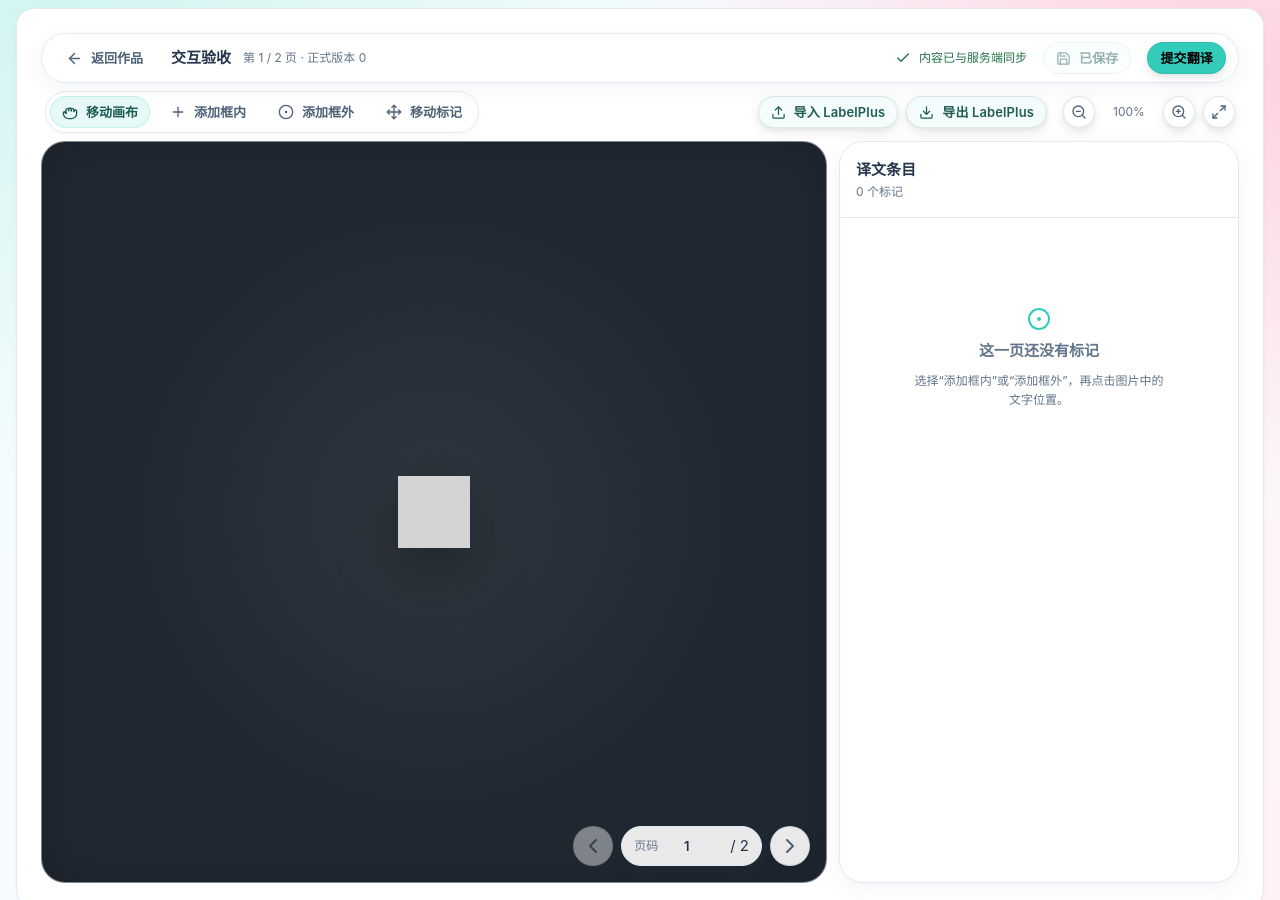
shortcut deletion serializes after in-flight creation and deletes its resolved server ID
Step 1. Click the button "添加框内" → click(208, 112), box [158,96,258,128]
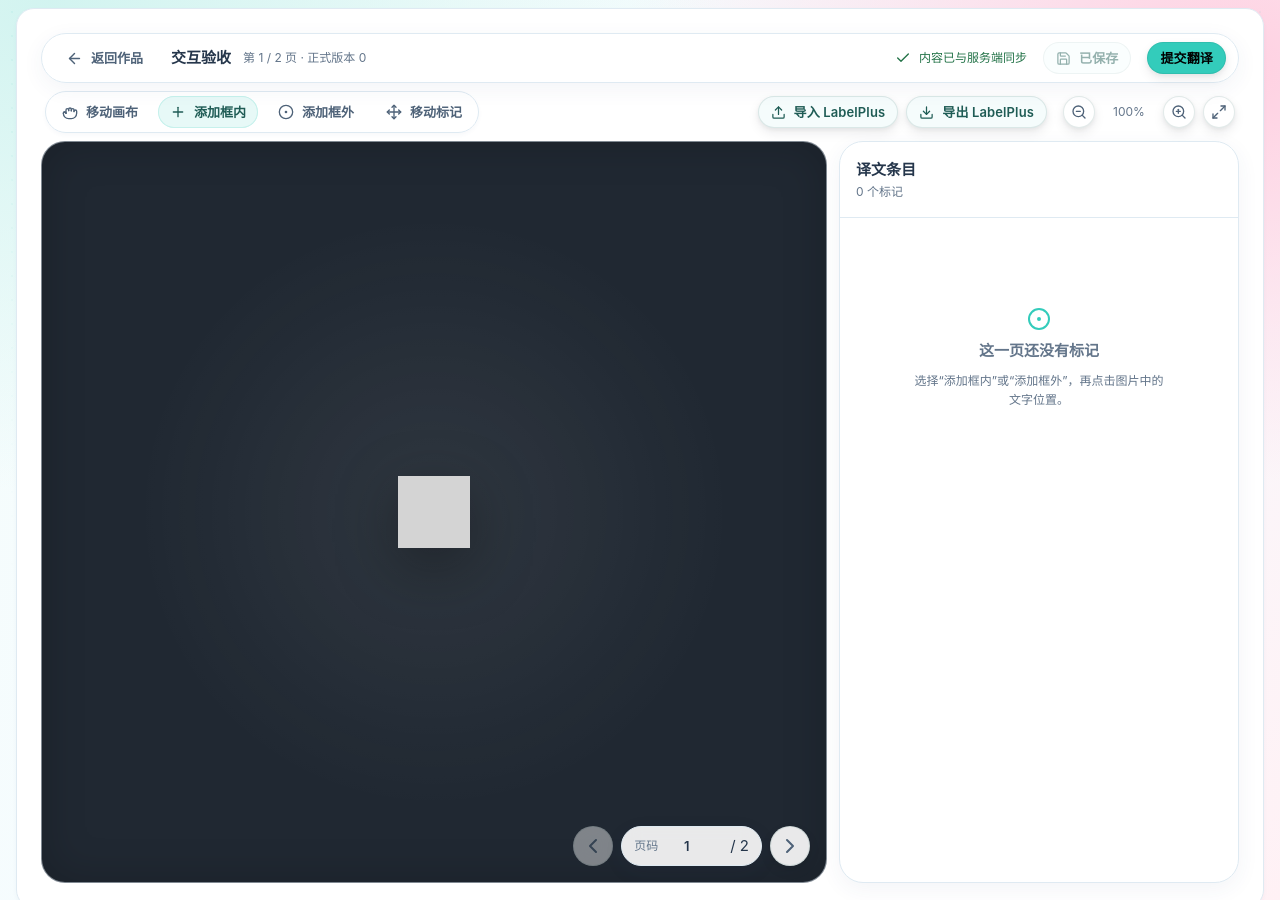
Step 2. Press the mouse on the element named "图片标记画布，Alt 加滚轮缩放，Ctrl 加 Z 撤销连续新标点" → (434, 512), box [41,141,827,883]
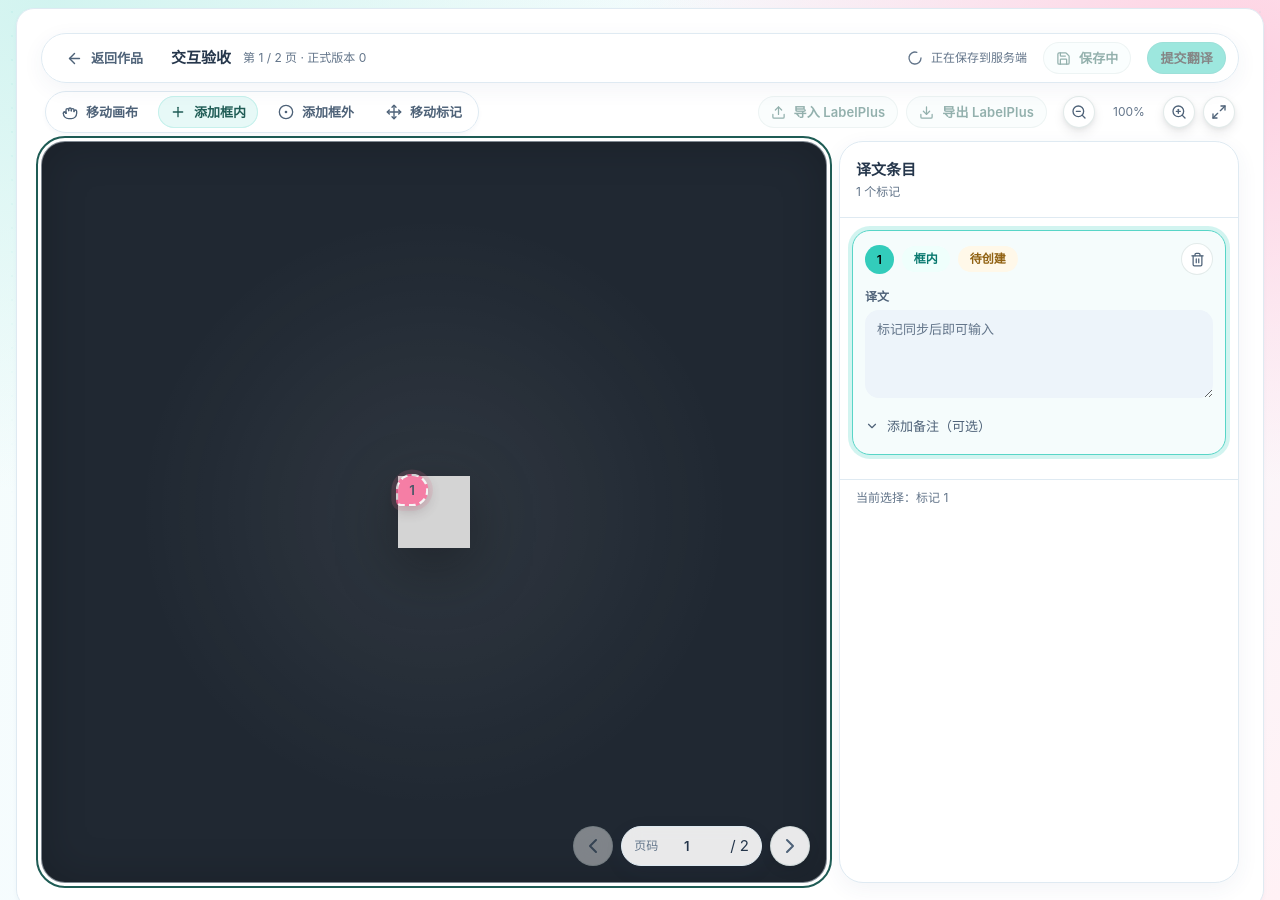
Expected: the text "待创建" is shown, [958,246,1018,272]
Step 3. Press z in the element named "图片标记画布，Alt 加滚轮缩放，Ctrl 加 Z 撤销连续新标点", box [41,141,827,883]
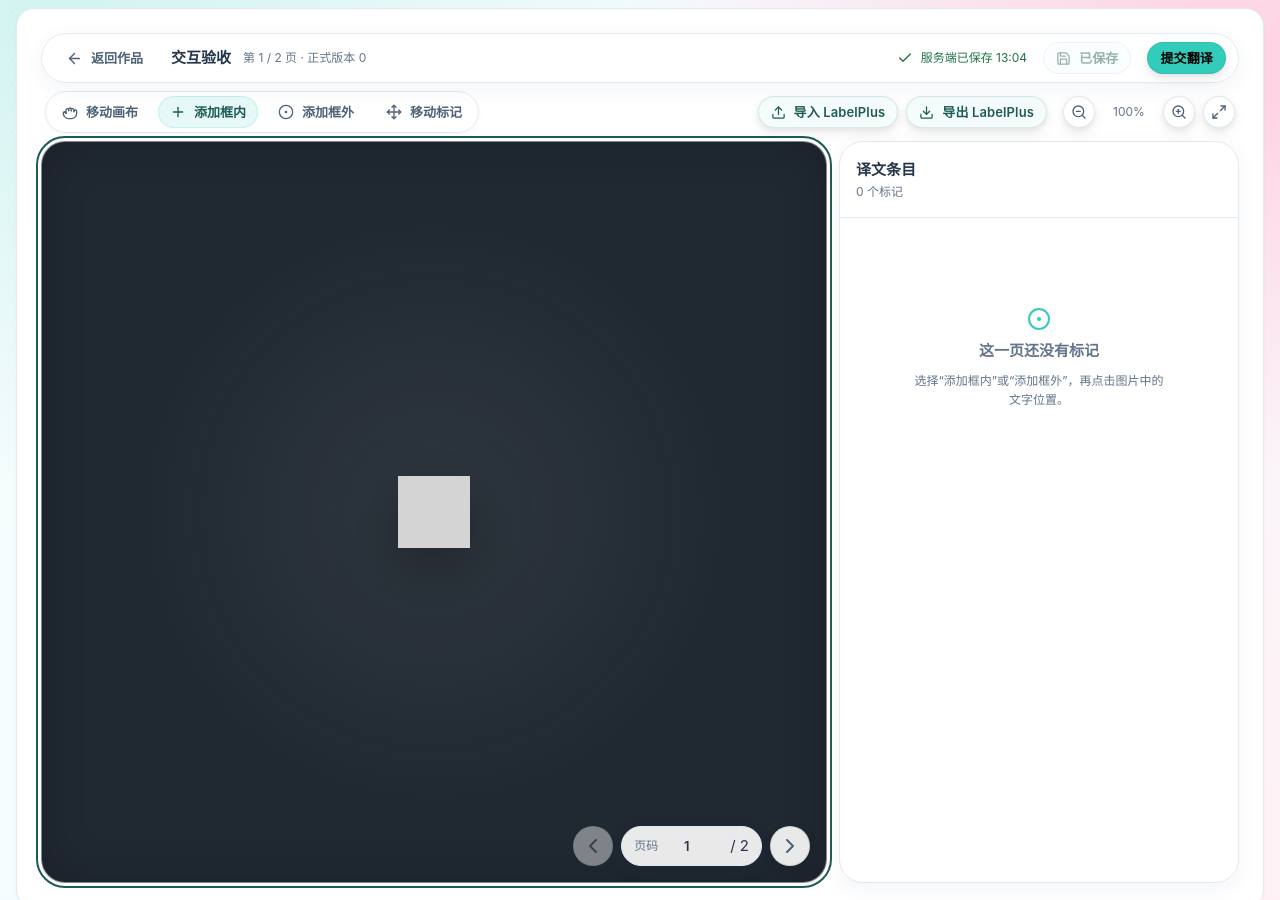
Expected: the text "标记 1" is gone
